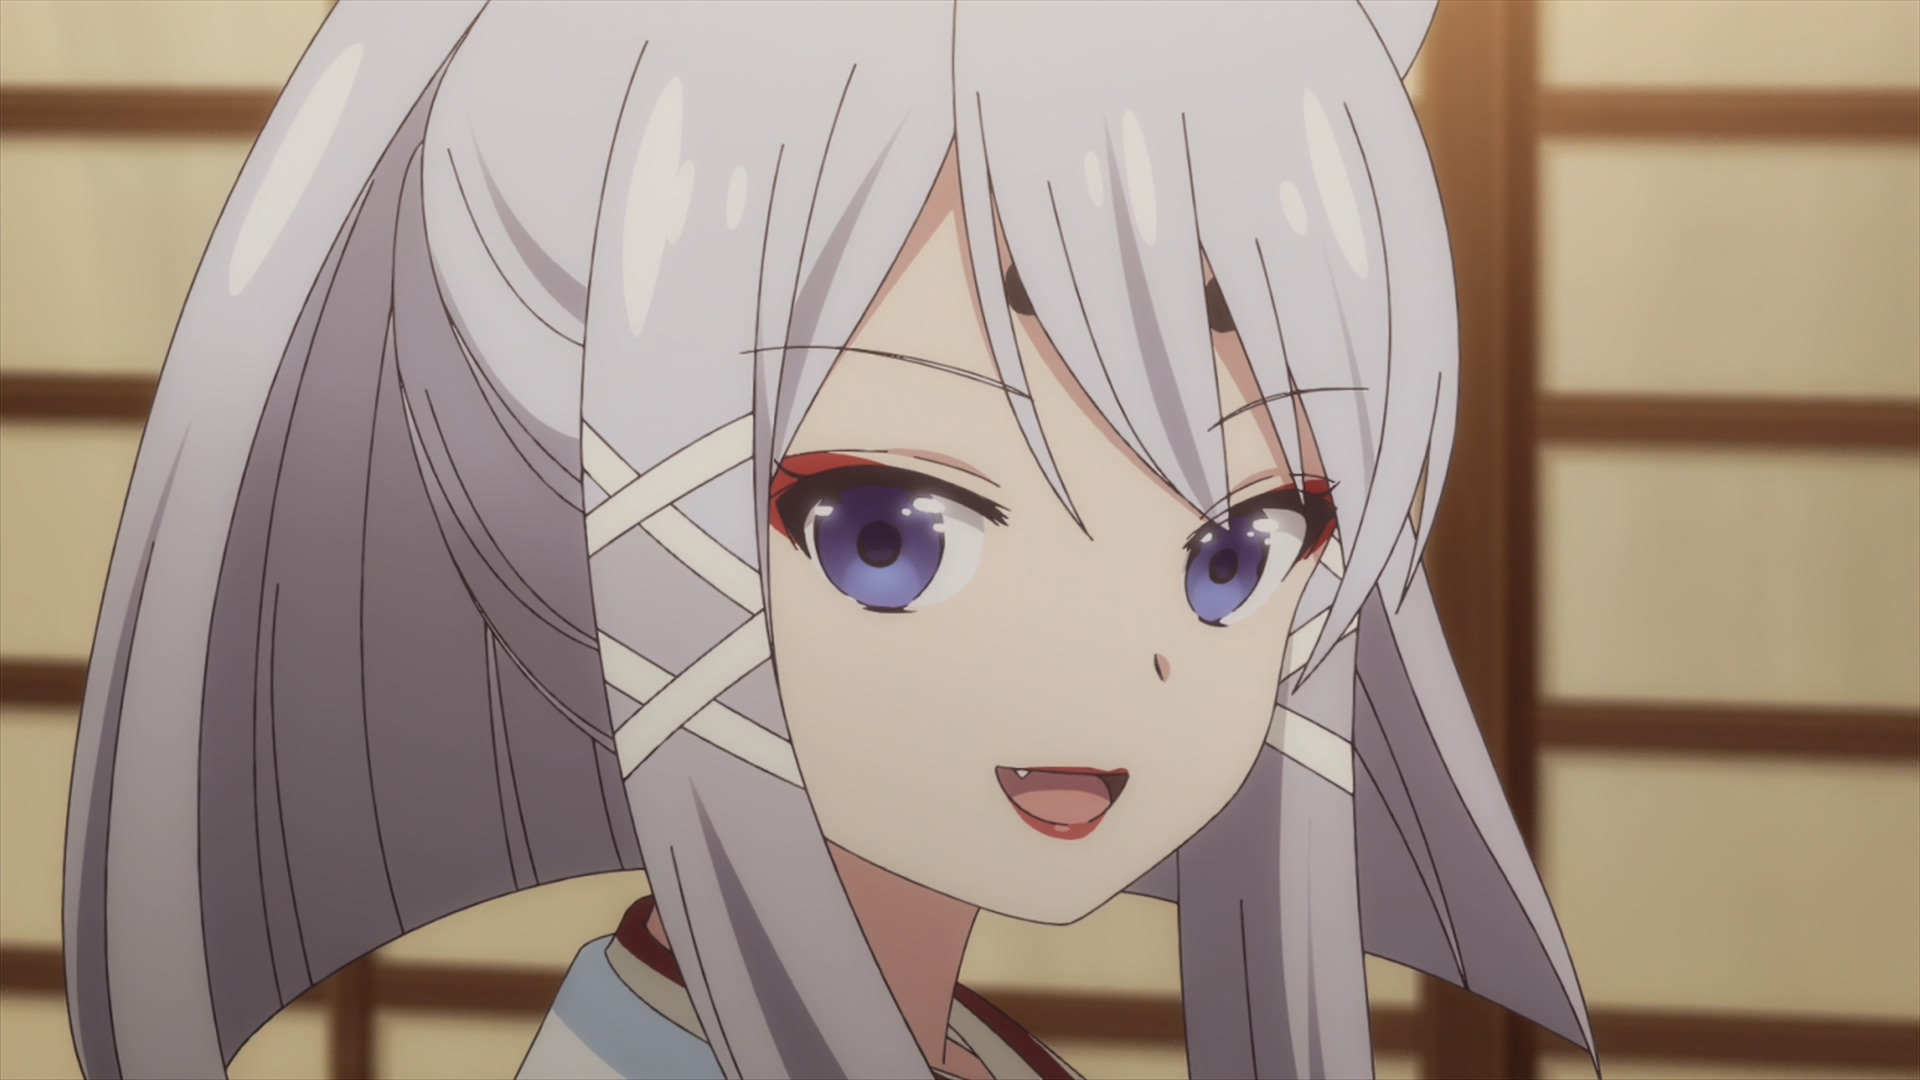柊: (63, 1, 1600, 1080)
